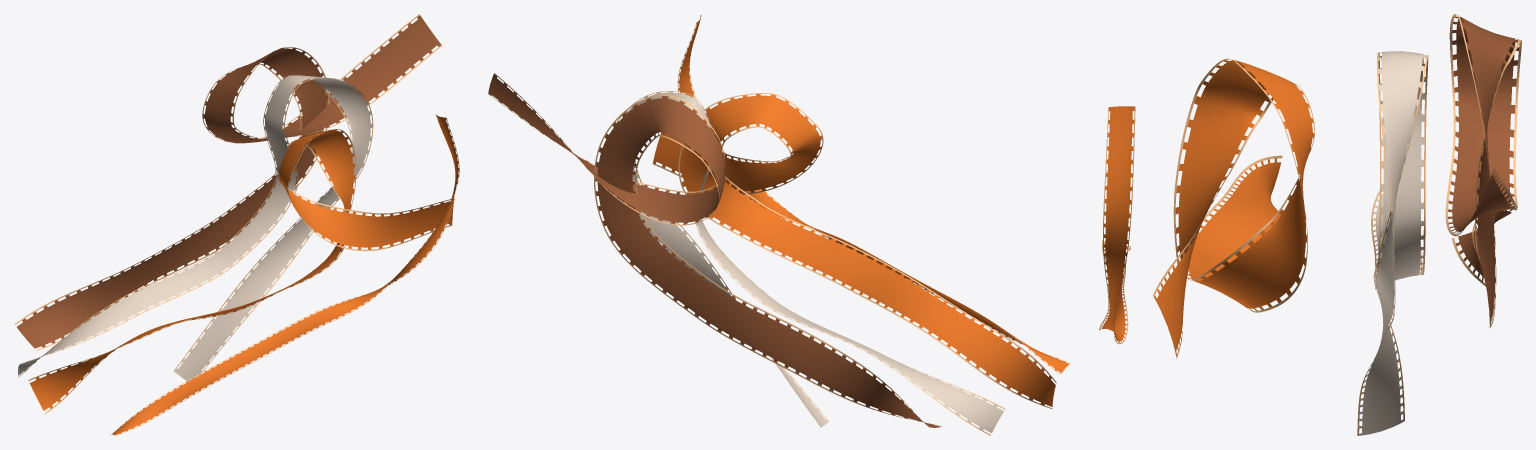
File: kinetic-dark.glb
3 views of the same model, side by side, from view 1: azimuth 30°, elevation 25°; view 2: azimuth 150°, elevation 25°; view 3: azimuth 270°, elevation 25° (orthographic). The views are drawn at different scales.
Visible parts, largest first — view 1: 03-bronze-memory, 02-pearl-splice, 01-orange-cut, 04-orange-foreground; view 2: 03-bronze-memory, 01-orange-cut, 02-pearl-splice, 04-orange-foreground; view 3: 01-orange-cut, 02-pearl-splice, 03-bronze-memory, 04-orange-foreground.
Boxes of the visible parts, x1,y1,x2,y2 form: 03-bronze-memory: [14, 14, 441, 350]; 02-pearl-splice: [18, 75, 373, 381]; 01-orange-cut: [28, 129, 454, 413]; 04-orange-foreground: [111, 114, 459, 435]; 03-bronze-memory: [488, 73, 942, 427]; 01-orange-cut: [652, 93, 1056, 409]; 02-pearl-splice: [616, 91, 1005, 435]; 04-orange-foreground: [677, 15, 1070, 374]; 01-orange-cut: [1153, 58, 1314, 358]; 02-pearl-splice: [1357, 51, 1428, 435]; 03-bronze-memory: [1445, 14, 1521, 327]; 04-orange-foreground: [1099, 106, 1135, 344].
Bounding box in the file's own units: 28.76 × 17.04 × 12.61.
